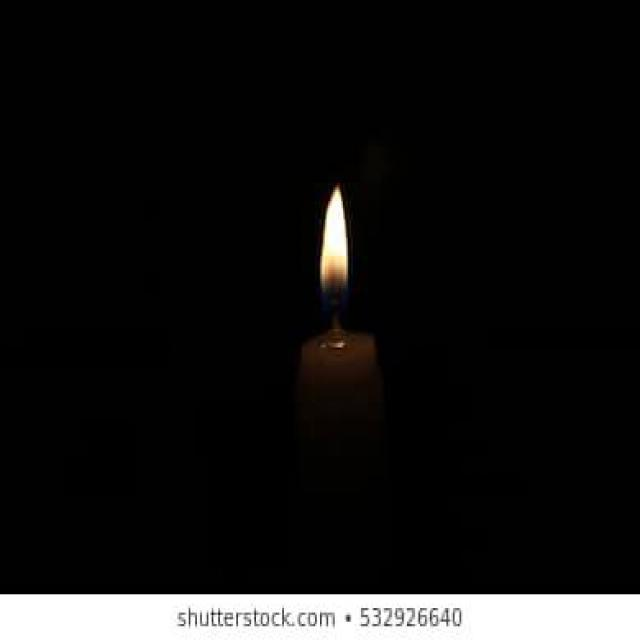Fire: (319, 185, 346, 313)
